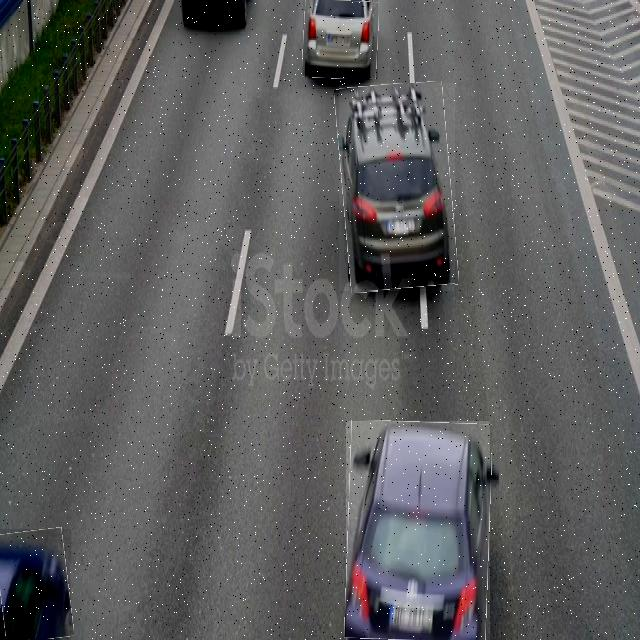Car: (346, 421, 490, 640), (339, 84, 455, 292), (0, 529, 71, 640), (303, 0, 378, 78)
